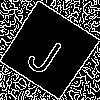J: (24, 25, 70, 78)
